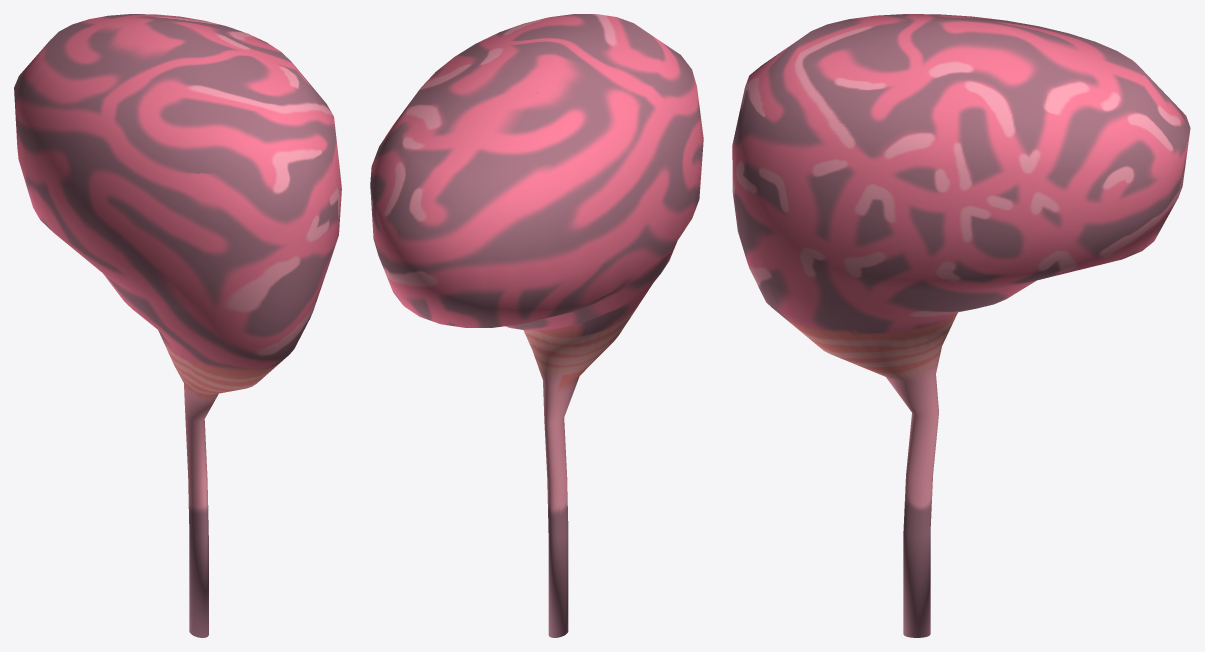
The model's file is Brain.fbx.
3 views of the same model, side by side, from view 1: azimuth 30°, elevation 25°; view 2: azimuth 150°, elevation 25°; view 3: azimuth 270°, elevation 25° (orthographic). The views are drawn at different scales.
Parts seen in each view (by area): view 1: Brain; view 2: Brain; view 3: Brain.
Boxes of the visible parts, x1,y1,x2,y2 form: Brain: (14,14,341,637); Brain: (370,14,703,637); Brain: (732,14,1190,637).
Bounding box in the file's own units: 107 × 245 × 168.
